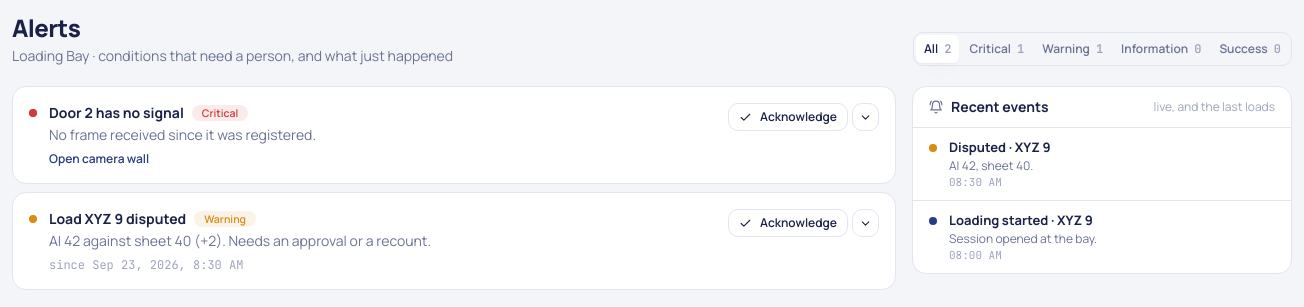
Test case: alerts › filters by severity
expect the text "Door 2 has no signal" is shown: met, box [49,103,184,123]
Click the button "Warning 1" at (1073, 49), box [1034,35,1111,63]
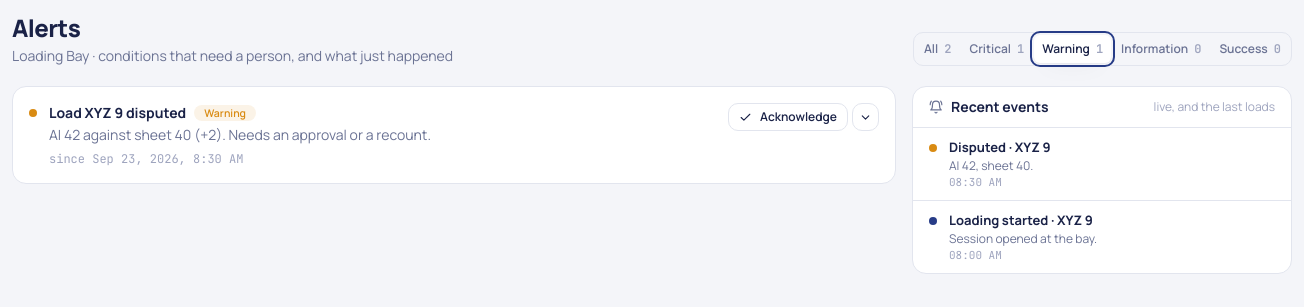
expect the text "Load XYZ 9 disputed" is shown: met, box [49,103,186,123]
expect the text "Door 2 has no signal" is gone: met
